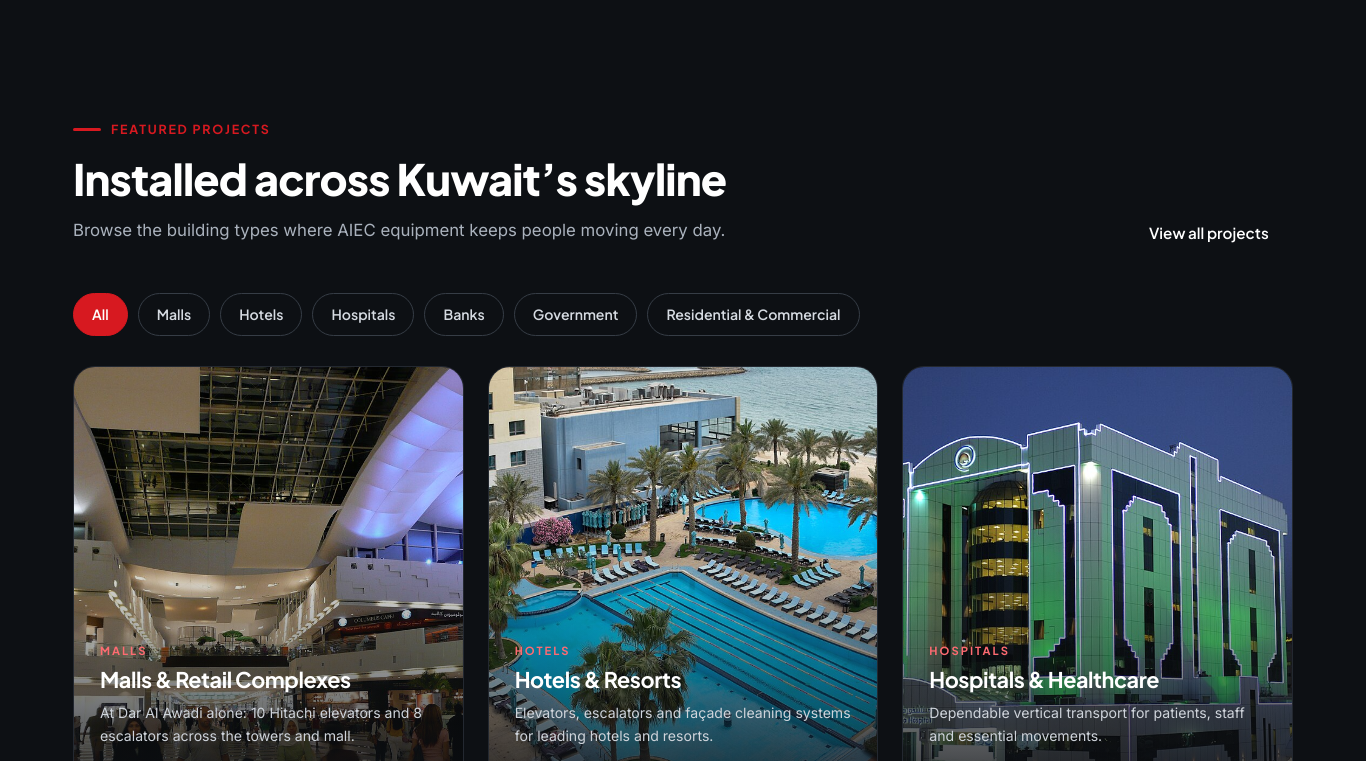
Projects › chip {} shows only the matching card
The width and height of the screenshot is (1366, 761).
Step 1. Click the tab "Residential & Commercial" → x=753, y=315, box [647,293,860,336]
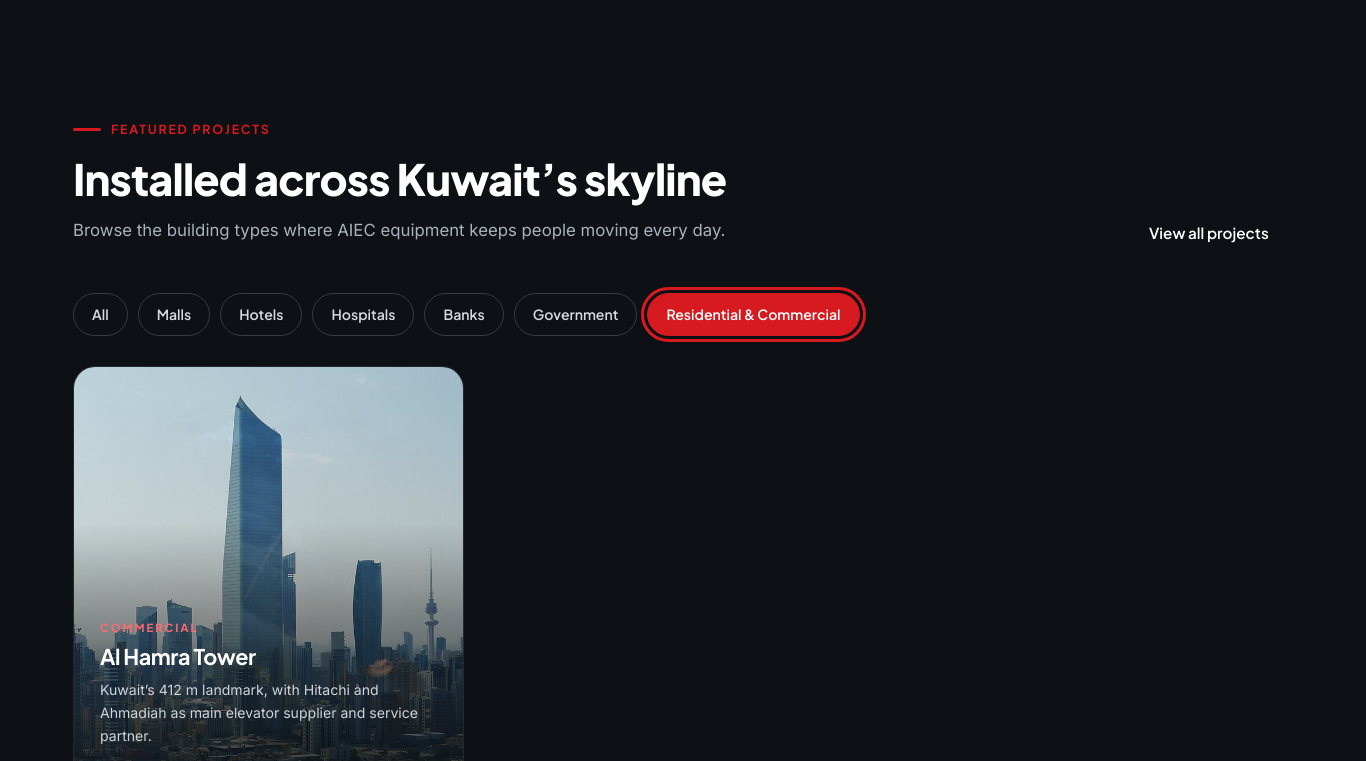
Expected: the tab "Residential & Commercial" is selected, [647,293,860,336]
Expected: the tab "Residential & Commercial" has class "on", [647,293,860,336]
Expected: the tab "All" is not selected, [73,293,128,336]
